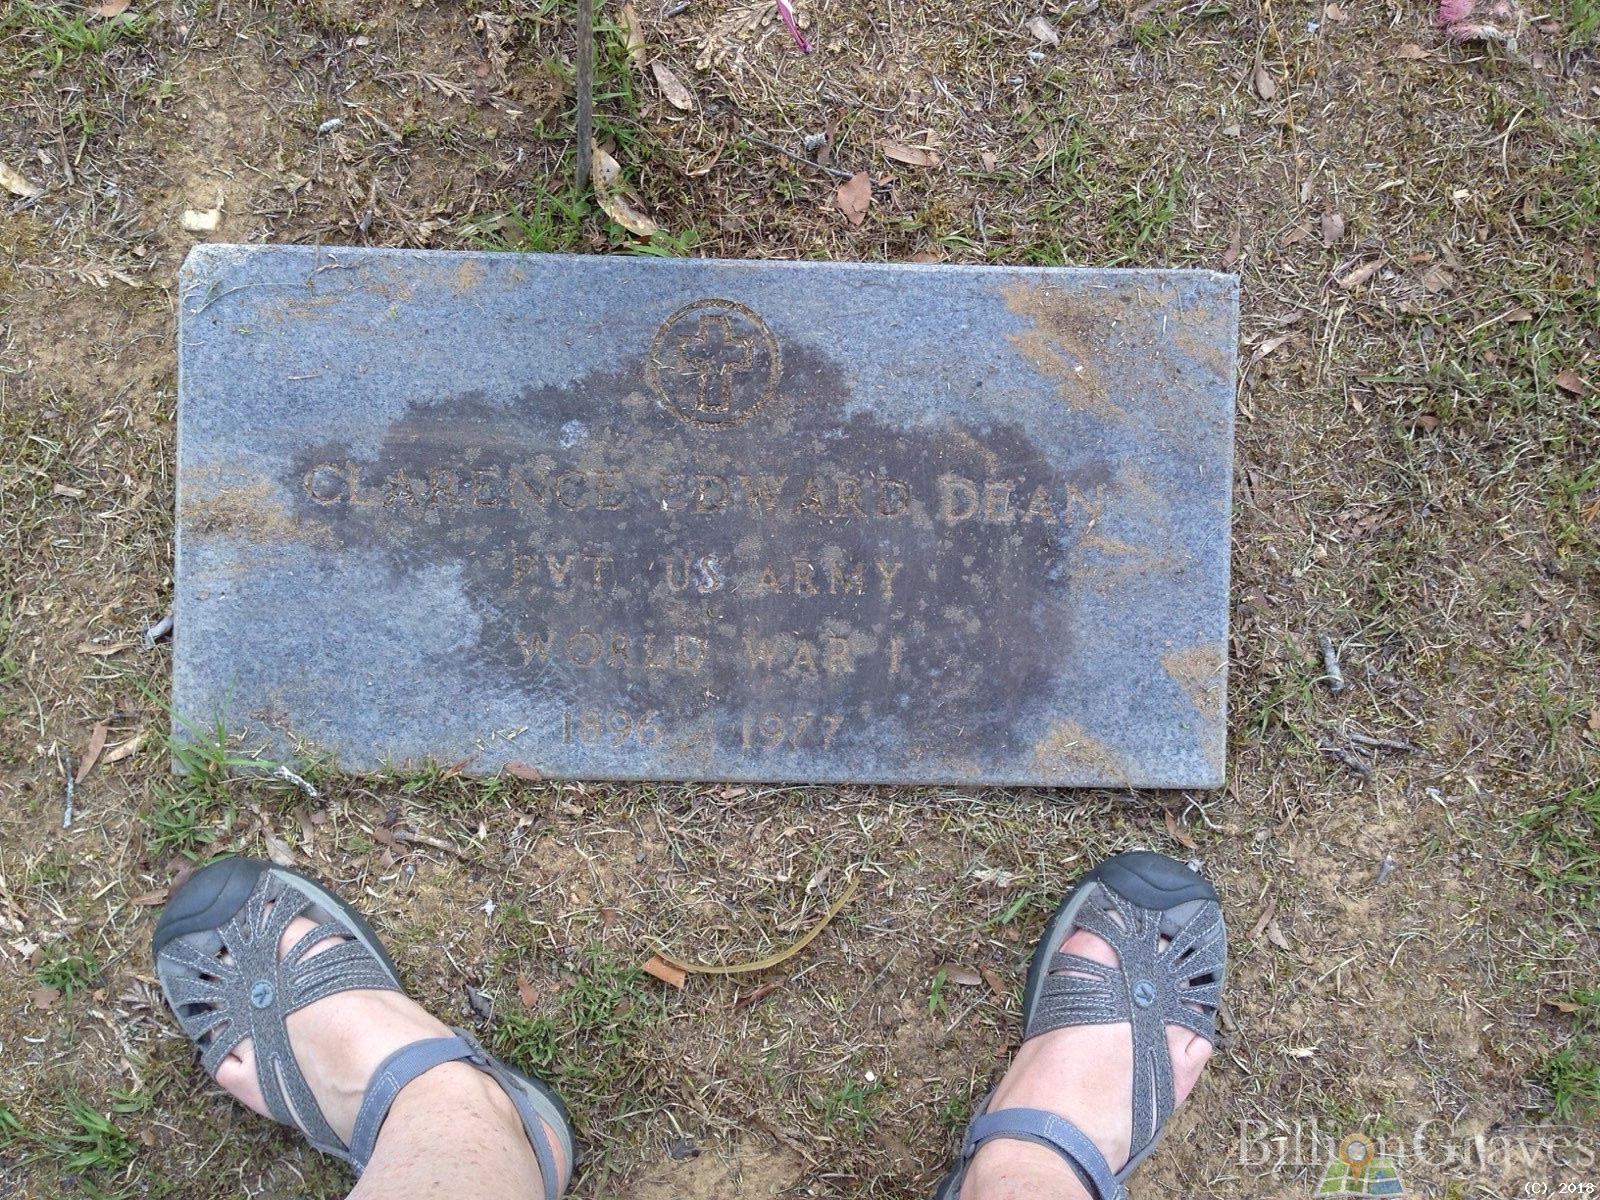flat: (173, 238, 1233, 792)
